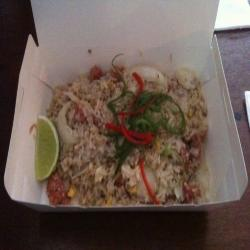rice: (52, 80, 206, 204)
